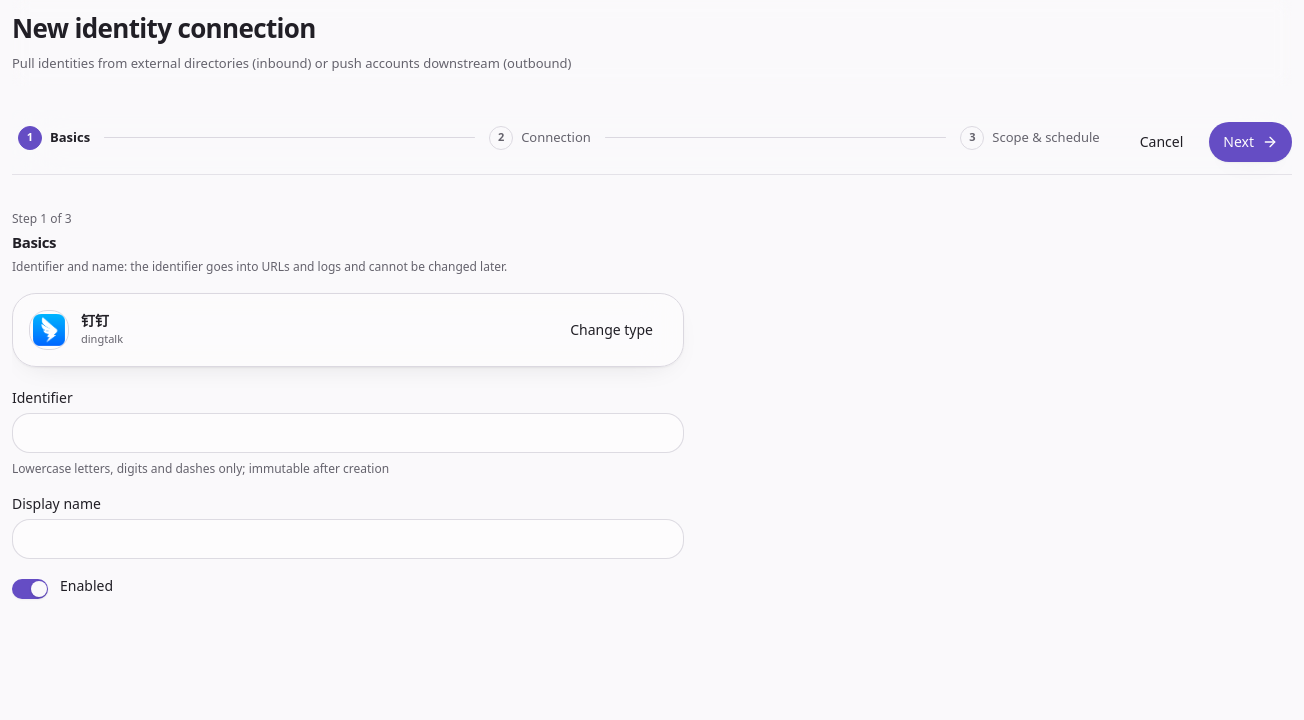
Test case: ConnectionEditPage › 「接入方」只在第一步出现一次，切换步骤不重复出现
Expected: the text "钉钉" is shown, [81,311,109,330]
Expected: the button "Change type" is shown, [556,314,667,346]
Click the button "2 Connection": coordinates (540, 138) [483,122,597,154]
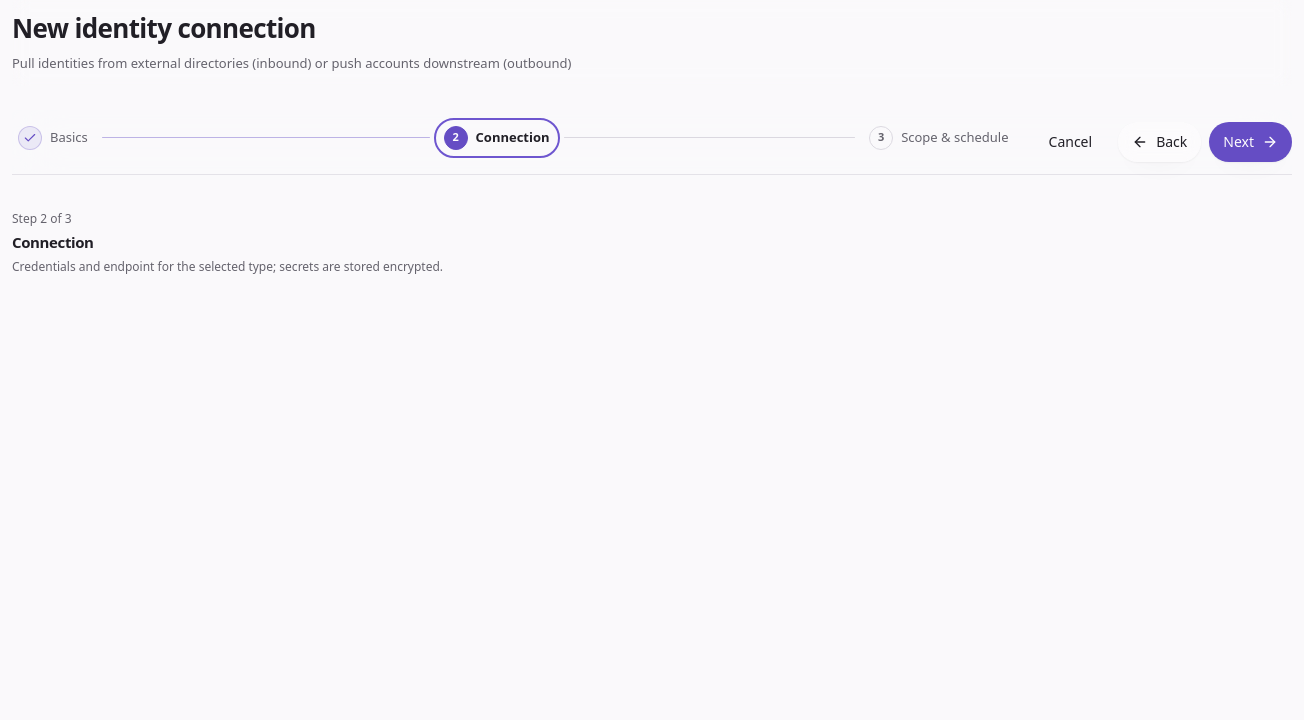
Expected: the text "Credentials and endpoint for the selected type; secrets are stored encrypted." is shown, [12,258,443,275]
Expected: the text "钉钉" is gone
Expected: the button "Change type" is gone
Click the button "Basics": coordinates (53, 138) [12,122,94,154]
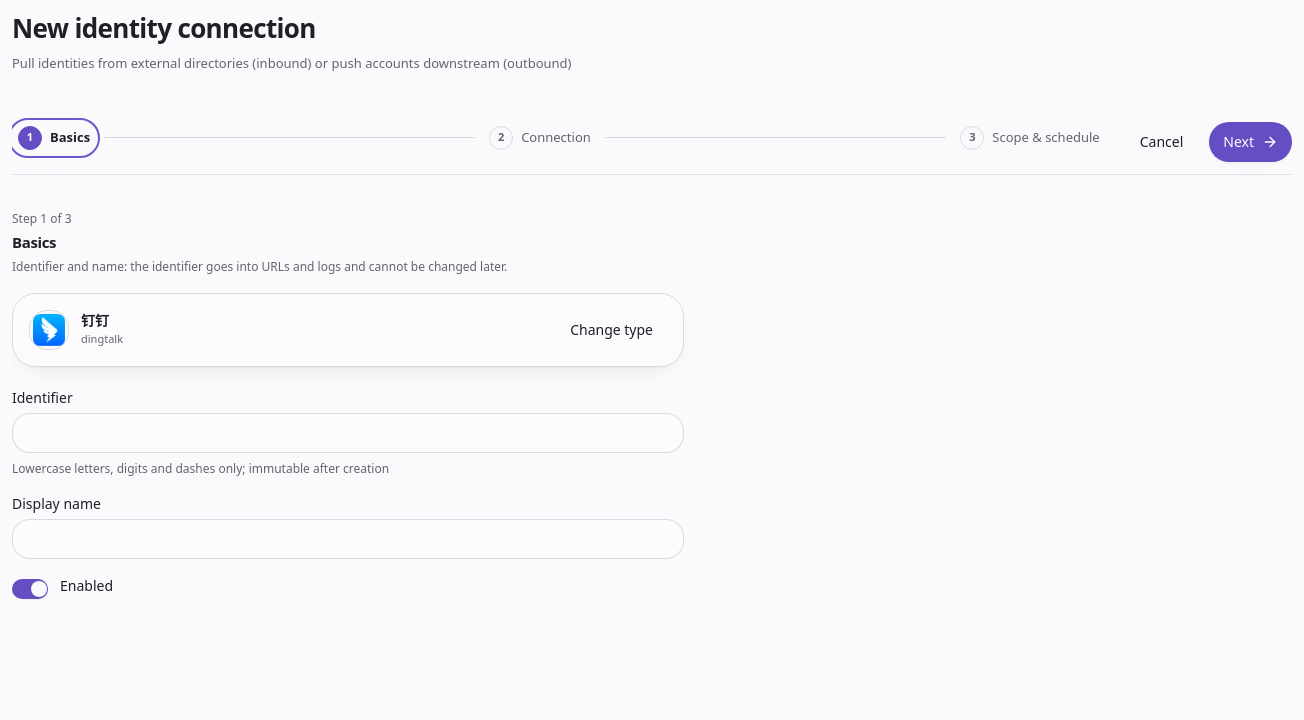
Expected: the text "钉钉" is shown, [81,311,109,330]
